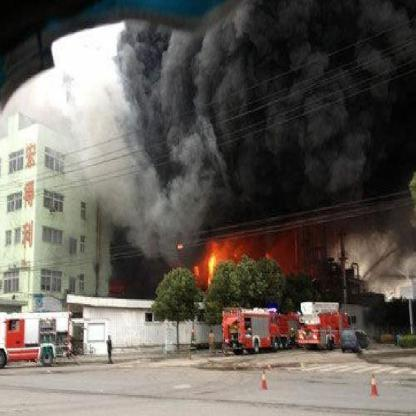fire: (188, 230, 358, 286)
smoke: (100, 2, 416, 226)
